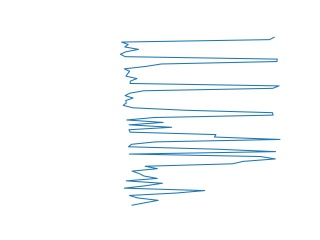crevasseRiverChannelBar: (119, 160, 266, 206)
majorRiverBedLagDeposit: (121, 121, 283, 163)
majorRiverChannelBar: (117, 36, 282, 117)
